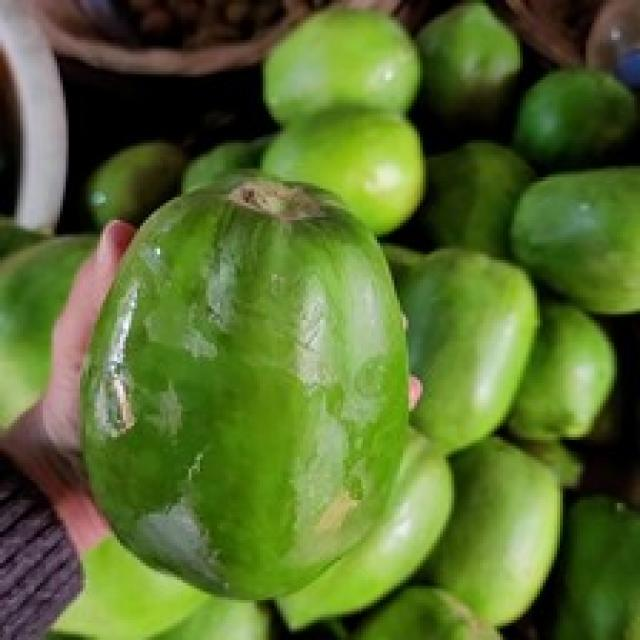Pepaya unrippen: (79, 169, 416, 598)
